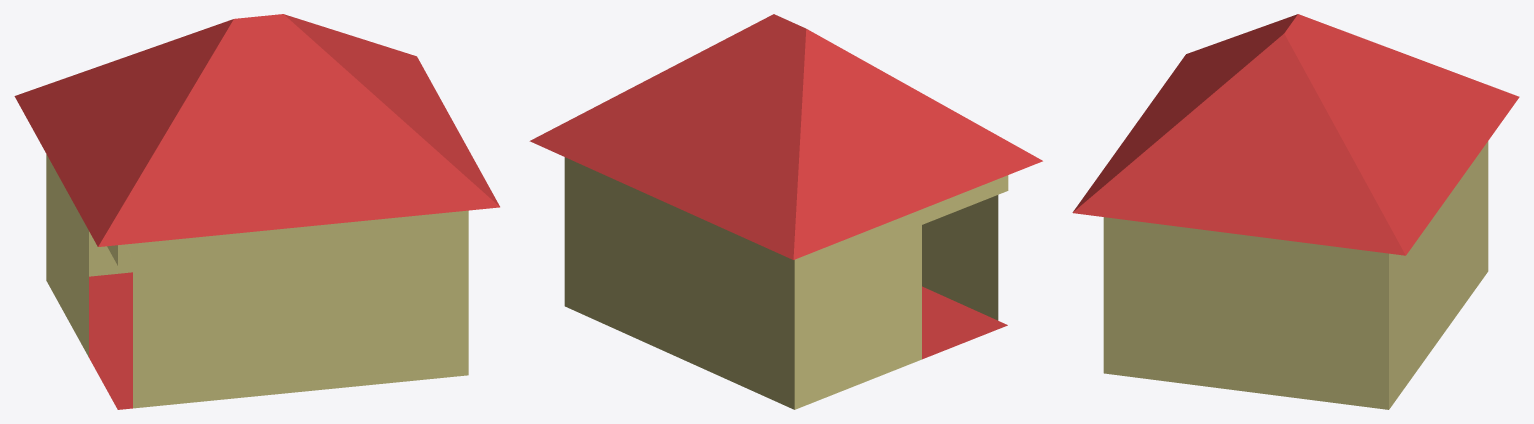
3 renders of one model, left to right at view 1: azimuth 30°, elevation 25°; view 2: azimuth 150°, elevation 25°; view 3: azimuth 270°, elevation 25°, orthographic. The views are drawn at different scales.
Visible parts, largest first — view 1: group_3, group_5, group_4, group_6; view 2: group_5, group_3, group_4, group_6; view 3: group_3, group_5, group_4.
Part boxes in pixels (x1,y1,x2,y2): group_3: (47,14,499,246); group_5: (46,154,468,408); group_4: (14,85,499,246); group_6: (89,272,132,409); group_5: (564,157,1008,409); group_3: (530,14,1029,259); group_4: (530,123,1042,259); group_6: (922,286,1007,359); group_3: (1072,14,1519,255); group_5: (1103,141,1488,409); group_4: (1073,85,1508,255).
Bounding box in the file's own units: 18.83 × 17.67 × 12.99.
